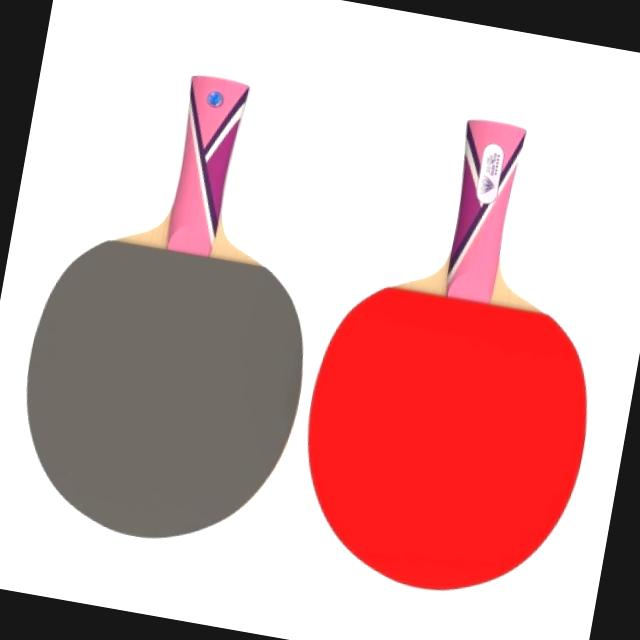TT Racket: (274, 228, 627, 631), (0, 173, 335, 574)
